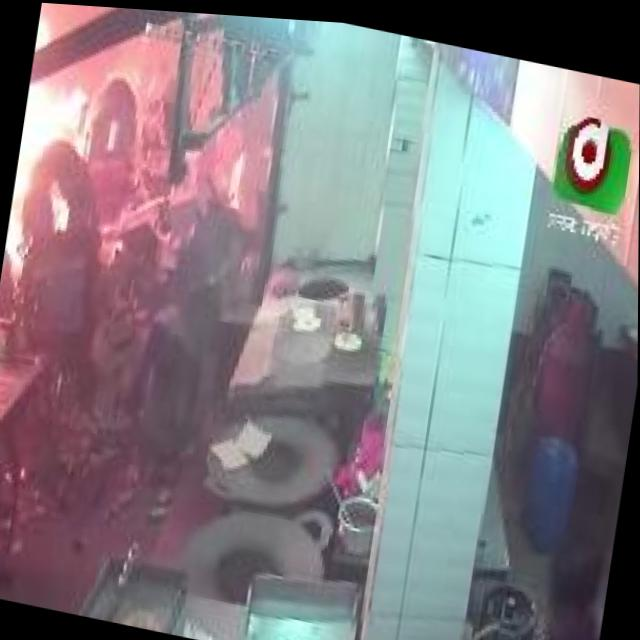fire: (0, 66, 95, 298), (35, 11, 60, 50)
